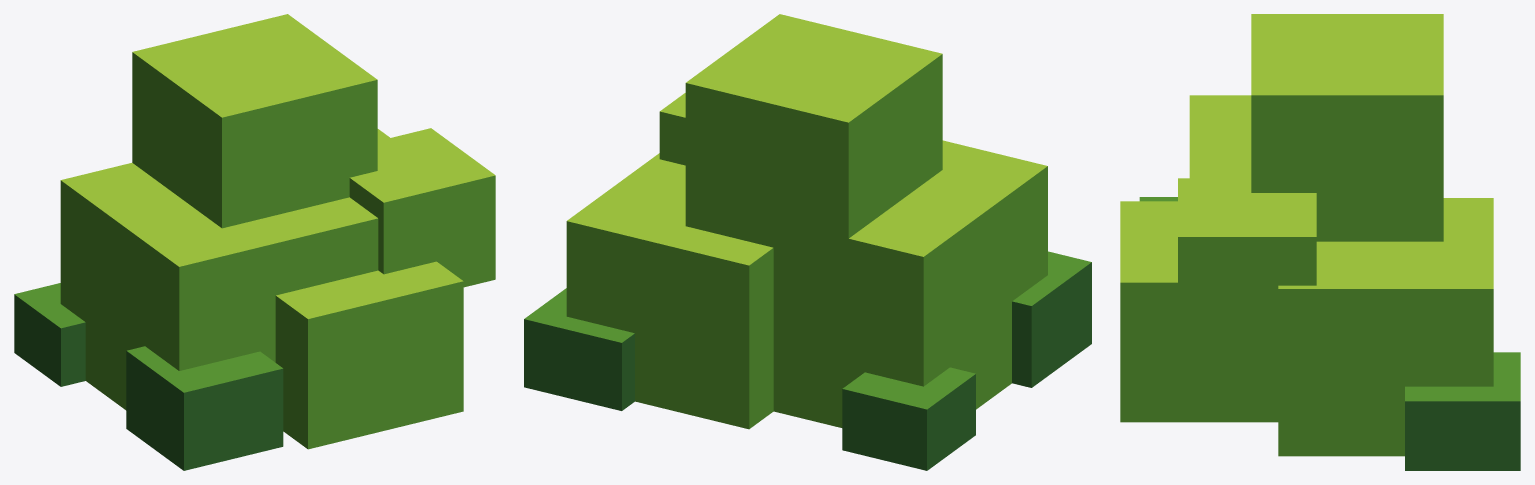
The model's file is Lobby_Bush.glb.
The picture shows the model from 3 angles, left to right: view 1: azimuth 30°, elevation 25°; view 2: azimuth 150°, elevation 25°; view 3: azimuth 270°, elevation 25°; orthographic projection. The views are drawn at different scales.
Visible parts, largest first — view 1: Bush_leafMid, Bush_leafLime, Bush_leafDark; view 2: Bush_leafMid, Bush_leafLime, Bush_leafDark; view 3: Bush_leafMid, Bush_leafLime, Bush_leafDark.
Boxes of the visible parts, x1=… form: Bush_leafMid: x1=14, y1=52, x2=495, y2=449; Bush_leafLime: x1=61, y1=14, x2=495, y2=318; Bush_leafDark: x1=14, y1=294, x2=283, y2=470; Bush_leafMid: x1=524, y1=54, x2=1091, y2=429; Bush_leafLime: x1=567, y1=14, x2=1047, y2=265; Bush_leafDark: x1=524, y1=262, x2=1091, y2=470; Bush_leafMid: x1=1120, y1=95, x2=1520, y2=456; Bush_leafLime: x1=1120, y1=14, x2=1493, y2=288; Bush_leafDark: x1=1405, y1=401, x2=1520, y2=470.
Size of the model in its own units: 1.19 by 0.9 by 1.04.
